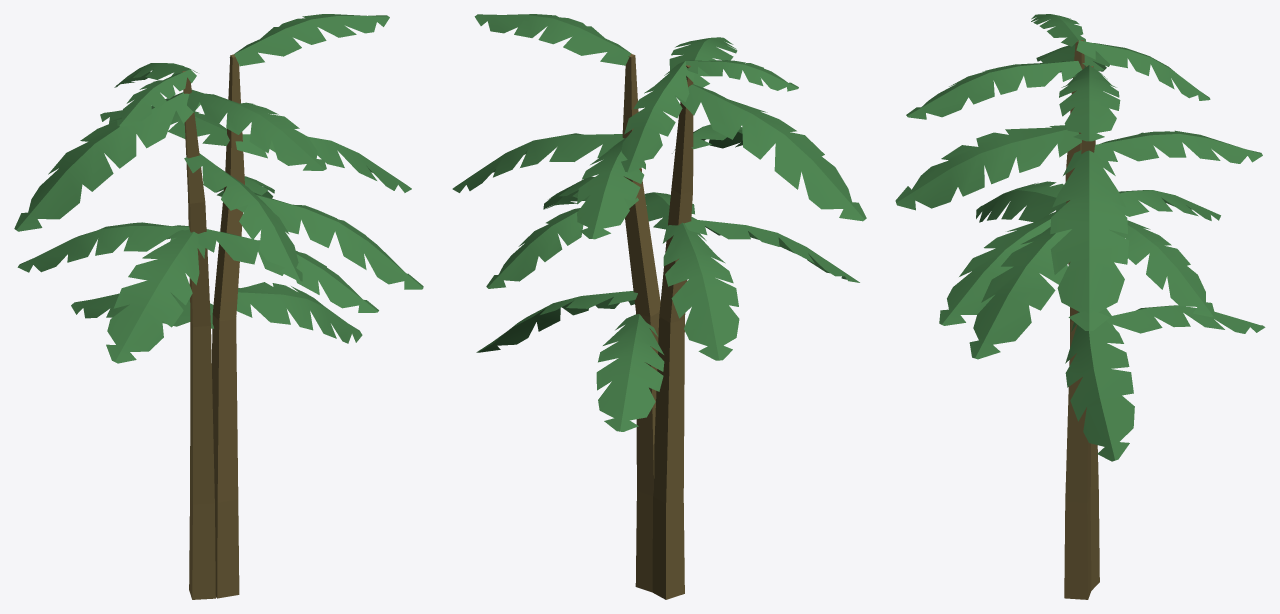
The model's file is jungle_tree_4.glb.
3 views of the same model, side by side, from view 1: azimuth 30°, elevation 25°; view 2: azimuth 150°, elevation 25°; view 3: azimuth 270°, elevation 25° (orthographic).
Visible parts, largest first — view 1: Plane.043_leaves2_0, Plane.043_tree_trunk.001_0; view 2: Plane.043_leaves2_0, Plane.043_tree_trunk.001_0; view 3: Plane.043_leaves2_0, Plane.043_tree_trunk.001_0.
Part boxes in pixels (left/top/right/bottom): Plane.043_leaves2_0: left=14, top=14, right=423, bottom=363; Plane.043_tree_trunk.001_0: left=182, top=54, right=244, bottom=599; Plane.043_leaves2_0: left=452, top=14, right=866, bottom=431; Plane.043_tree_trunk.001_0: left=622, top=53, right=693, bottom=599; Plane.043_leaves2_0: left=895, top=14, right=1265, bottom=461; Plane.043_tree_trunk.001_0: left=1064, top=40, right=1099, bottom=599.
Bounding box in the file's own units: 1.08 × 1.4 × 0.8493.
